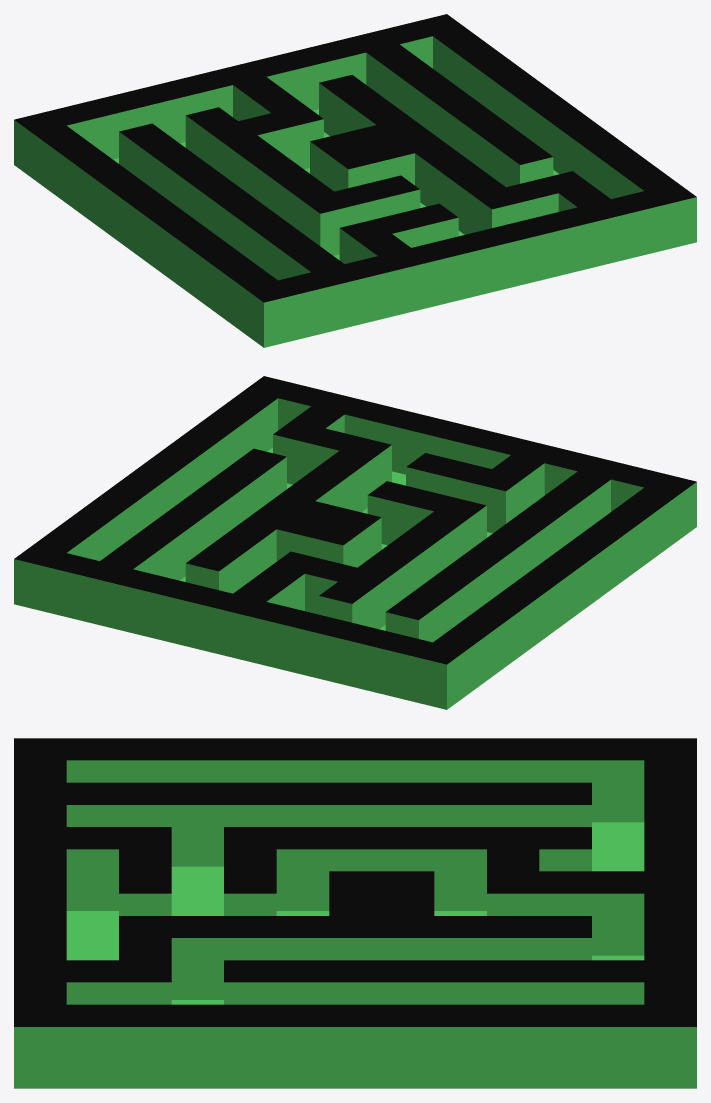
The model's file is Maze2.fbx.
The picture shows the model from 3 angles, top to bottom: view 1: azimuth 30°, elevation 25°; view 2: azimuth 150°, elevation 25°; view 3: azimuth 270°, elevation 25°; orthographic projection. The views are drawn at different scales.
Parts seen in each view (by area): view 1: Plane; view 2: Plane; view 3: Plane.
Boxes of the visible parts, bbox=[...] form: Plane: bbox=[14, 14, 696, 347]; Plane: bbox=[14, 376, 696, 709]; Plane: bbox=[14, 738, 696, 1088].
Bounding box in the file's own units: 6000 × 600 × 6000.
